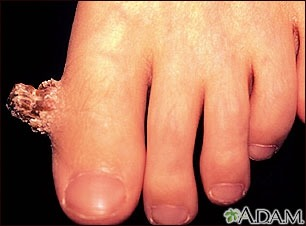Warts: (3, 68, 69, 148)
